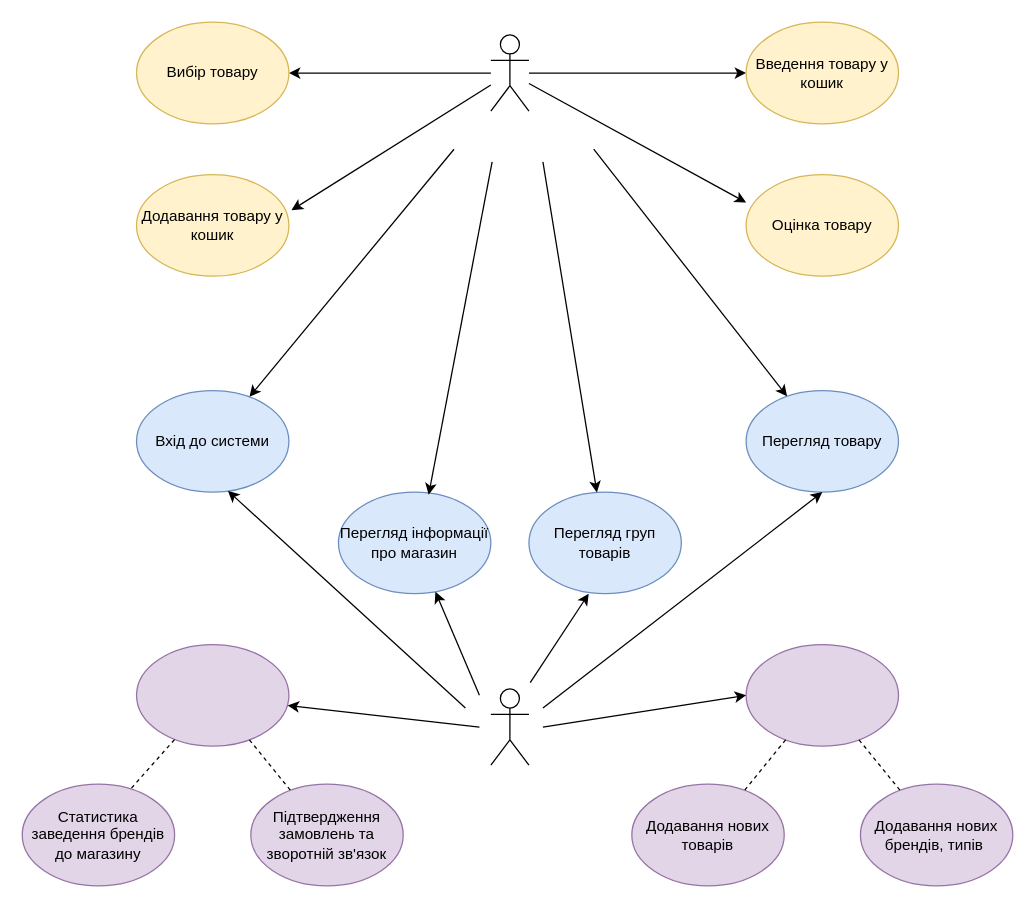
This 1035x908 diagram has some shape labels left out. Each missing label, with the centre of its shape:
"Адміністратор" goes at (509,726).
"Введення статистики та підтвердження" goes at (212,694).
"Користувач" goes at (509,72).
"Редагування контенту сайту" goes at (822,694).
